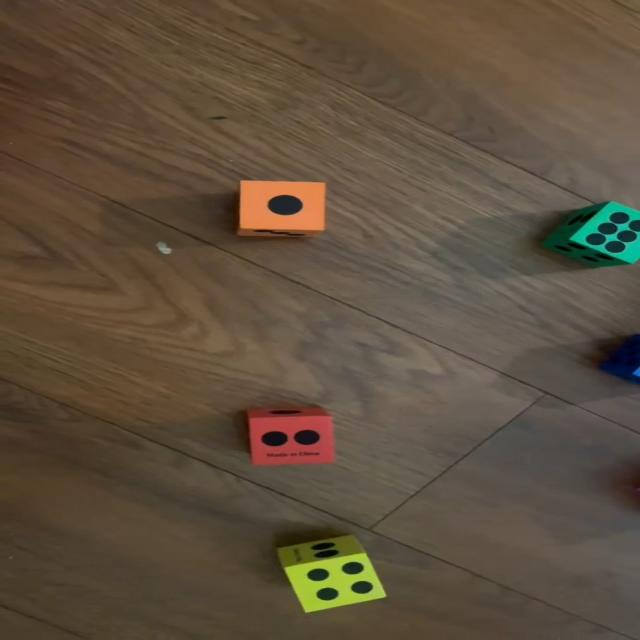blue_block: (605, 336, 640, 386)
red_block: (249, 405, 335, 464)
